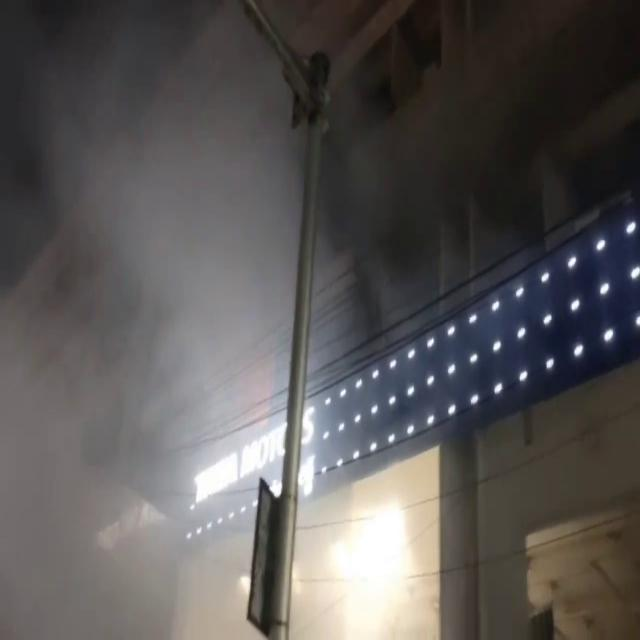Fire: (340, 515, 416, 640)
